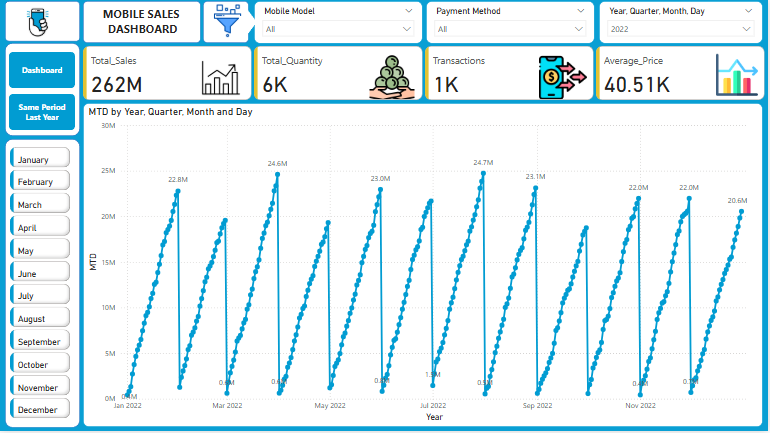

Layout of this report page (visuals, bound fields, positions):
{"tool":"powerbi","page":{"name":"MTD Report","canvas":[1280,720],"ordinal":1},"visuals":[{"type":"shape","box":[7.5,3.8,125,67.5],"z":0},{"type":"image","box":[23.8,3.8,78.8,71.2],"z":1000},{"type":"shape","box":[7.5,73.8,125,155],"z":2000},{"type":"cardVisual","fields":{"Data":["Sales_Data.Total_Sales","Sales_Data.Total_Quantity","Sales_Data.Transactions","Sales_Data.Average_Price"]},"box":[132.5,73.8,1147.5,100],"z":3000},{"type":"slicer","fields":{"Values":["Sales_Data.Mobile Model"]},"box":[423.8,3.8,281.2,71.2],"z":4000},{"type":"slicer","fields":{"Values":["Sales_Data.Payment Method"]},"box":[710,3.8,281.2,71.2],"z":5000},{"type":"slicer","fields":{"Values":["Custom_Calendar.Date.Variation.Date Hierarchy.Year","Custom_Calendar.Date.Variation.Date Hierarchy.Quarter","Custom_Calendar.Date.Variation.Date Hierarchy.Month","Custom_Calendar.Date.Variation.Date Hierarchy.Day"]},"box":[997.5,3.8,272.5,71.2],"z":6000},{"type":"shape","box":[338.8,3.8,76.2,70],"z":7000},{"type":"image","box":[337.5,3.8,81.2,66.2],"z":8000},{"type":"shape","box":[397.5,17.5,30,40],"z":9000},{"type":"shape","box":[137.5,3.8,196.2,70],"z":10000},{"type":"textbox","box":[156.2,6.2,162.5,63.8],"z":11000},{"type":"lineChart","fields":{"Y":["Sales_Data.MTD"],"Category":["Custom_Calendar.Date.Variation.Date Hierarchy.Year","Custom_Calendar.Date.Variation.Date Hierarchy.Quarter","Custom_Calendar.Date.Variation.Date Hierarchy.Month","Custom_Calendar.Date.Variation.Date Hierarchy.Day"]},"box":[137.5,173.8,1132.5,540],"z":12000},{"type":"shape","box":[7.5,232.5,125,481.2],"z":13000},{"type":"advancedSlicerVisual","fields":{"Values":["Custom_Calendar.Date.Variation.Date Hierarchy.Month"]},"box":[11.2,241.2,110,472.5],"z":14000},{"type":"pageNavigator","box":[15,88.8,110,130],"z":15000}]}

Visuals, with their boxes in screenshot pixels (x1, y1, x2, y2), scaled from the page's 1280x720 canvas onto the 770x433 screenshot:
shape: [5,2,80,43]
image: [14,2,62,45]
shape: [5,44,80,138]
cardVisual - Sales_Data.Total_Sales x Sales_Data.Total_Quantity: [80,44,769,105]
slicer - Sales_Data.Mobile Model: [255,2,424,45]
slicer - Sales_Data.Payment Method: [427,2,596,45]
slicer - Custom_Calendar.Date.Variation.Date Hierarchy.Year x Custom_Calendar.Date.Variation.Date Hierarchy.Quarter: [600,2,764,45]
shape: [204,2,250,44]
image: [203,2,252,42]
shape: [239,11,257,35]
shape: [83,2,201,44]
textbox: [94,4,192,42]
lineChart - Sales_Data.MTD x Custom_Calendar.Date.Variation.Date Hierarchy.Year: [83,105,764,429]
shape: [5,140,80,429]
advancedSlicerVisual - Custom_Calendar.Date.Variation.Date Hierarchy.Month: [7,145,73,429]
pageNavigator: [9,53,75,132]
